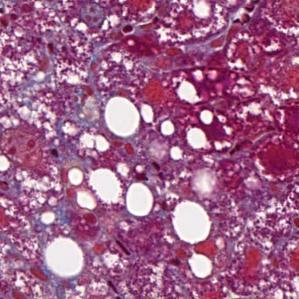steatosis: (45, 234, 86, 278), (173, 199, 211, 244), (104, 96, 142, 138), (125, 179, 154, 221), (189, 252, 218, 280)
